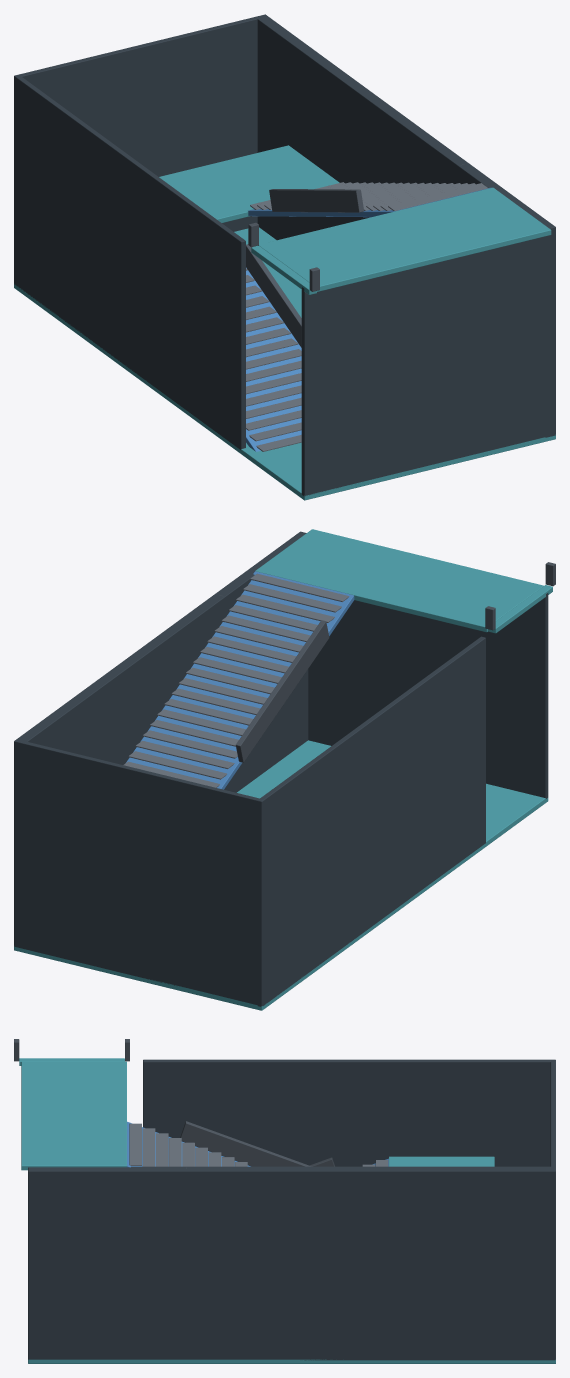
The model's file is env_tower_stairwell_generic_12m_top3d_v001.glb.
The picture shows the model from 3 angles, top to bottom: view 1: azimuth 30°, elevation 25°; view 2: azimuth 150°, elevation 25°; view 3: azimuth 270°, elevation 25°; orthographic projection. The views are drawn at different scales.
Visible parts, largest first — view 1: Stair_Generic_Rotatable_EnclosureWall_Inner, Stair_Generic_Rotatable_EnclosureWall_DoorSide, Stair_Generic_Rotatable_EnclosureWall_Far, Stair_Generic_Rotatable_EnclosureWall_Outer, Stair_Generic_Rotatable_UpperDoorLanding_Walkable, Stair_Generic_Rotatable_TurnLanding_Walkable, Stair_Generic_Rotatable_LowerDoorLanding_Walkable, Stair_Generic_Rotatable_LowerFlight_Walkable, Stair_Generic_Rotatable_UpperFlight_Guard_02, Stair_Generic_Rotatable_LowerFlight_Guard_02, Stair_Generic_Rotatable_UpperFlight_Walkable, Stair_Generic_Rotatable_CoreConnector_Walkable (+1 smaller); view 2: Stair_Generic_Rotatable_EnclosureWall_Far, Stair_Generic_Rotatable_EnclosureWall_Inner, Stair_Generic_Rotatable_EnclosureWall_DoorSide, Stair_Generic_Rotatable_EnclosureWall_Outer, Stair_Generic_Rotatable_UpperDoorLanding_Walkable, Stair_Generic_Rotatable_UpperFlight_Walkable, Stair_Generic_Rotatable_LowerDoorLanding_Walkable, Stair_Generic_Rotatable_UpperFlight_Guard_02, Stair_Generic_Rotatable_ROOT_UpperFlight_Tread_01, Stair_Generic_Rotatable_ROOT_UpperFlight_Tread_02, Stair_Generic_Rotatable_ROOT_UpperFlight_Tread_17, Stair_Generic_Rotatable_ROOT_UpperFlight_Tread_18 (+15 smaller); view 3: Stair_Generic_Rotatable_EnclosureWall_Outer, Stair_Generic_Rotatable_EnclosureWall_Inner, Stair_Generic_Rotatable_UpperDoorLanding_Walkable, Stair_Generic_Rotatable_LowerDoorLanding_Walkable, Stair_Generic_Rotatable_UpperFlight_Guard_02, Stair_Generic_Rotatable_TurnLanding_Walkable, Stair_Generic_Rotatable_EnclosureWall_DoorSide, Stair_Generic_Rotatable_EnclosureWall_Far, Stair_Generic_Rotatable_ROOT_UpperFlight_Tread_01, Stair_Generic_Rotatable_ROOT_UpperFlight_Tread_02, Stair_Generic_Rotatable_ROOT_UpperFlight_Tread_03, Stair_Generic_Rotatable_CoreConnector_Walkable.
Boxes of the visible parts, x1=… form: Stair_Generic_Rotatable_EnclosureWall_Inner: x1=14, y1=75, x2=245, y2=449; Stair_Generic_Rotatable_EnclosureWall_DoorSide: x1=301, y1=225, x2=555, y2=496; Stair_Generic_Rotatable_EnclosureWall_Far: x1=15, y1=14, x2=266, y2=231; Stair_Generic_Rotatable_EnclosureWall_Outer: x1=257, y1=14, x2=555, y2=437; Stair_Generic_Rotatable_UpperDoorLanding_Walkable: x1=258, y1=187, x2=551, y2=291; Stair_Generic_Rotatable_TurnLanding_Walkable: x1=159, y1=145, x2=339, y2=222; Stair_Generic_Rotatable_LowerDoorLanding_Walkable: x1=14, y1=227, x2=555, y2=500; Stair_Generic_Rotatable_LowerFlight_Walkable: x1=246, y1=267, x2=301, y2=451; Stair_Generic_Rotatable_UpperFlight_Guard_02: x1=269, y1=189, x2=363, y2=212; Stair_Generic_Rotatable_LowerFlight_Guard_02: x1=246, y1=244, x2=301, y2=347; Stair_Generic_Rotatable_UpperFlight_Walkable: x1=248, y1=187, x2=491, y2=217; Stair_Generic_Rotatable_CoreConnector_Walkable: x1=251, y1=246, x2=316, y2=294; Stair_Generic_Rotatable_EnclosureWall_Far: x1=14, y1=740, x2=262, y2=1004; Stair_Generic_Rotatable_EnclosureWall_Inner: x1=257, y1=636, x2=485, y2=1006; Stair_Generic_Rotatable_EnclosureWall_DoorSide: x1=298, y1=531, x2=548, y2=798; Stair_Generic_Rotatable_EnclosureWall_Outer: x1=14, y1=531, x2=308, y2=792; Stair_Generic_Rotatable_UpperDoorLanding_Walkable: x1=255, y1=529, x2=543, y2=632; Stair_Generic_Rotatable_UpperFlight_Walkable: x1=126, y1=571, x2=354, y2=789; Stair_Generic_Rotatable_LowerDoorLanding_Walkable: x1=14, y1=740, x2=548, y2=1010; Stair_Generic_Rotatable_UpperFlight_Guard_02: x1=235, y1=620, x2=329, y2=762; Stair_Generic_Rotatable_ROOT_UpperFlight_Tread_01: x1=250, y1=573, x2=349, y2=601; Stair_Generic_Rotatable_ROOT_UpperFlight_Tread_02: x1=243, y1=584, x2=341, y2=612; Stair_Generic_Rotatable_ROOT_UpperFlight_Tread_17: x1=135, y1=740, x2=234, y2=768; Stair_Generic_Rotatable_ROOT_UpperFlight_Tread_18: x1=128, y1=751, x2=226, y2=779; Stair_Generic_Rotatable_EnclosureWall_Outer: x1=28, y1=1166, x2=555, y2=1360; Stair_Generic_Rotatable_EnclosureWall_Inner: x1=143, y1=1059, x2=555, y2=1166; Stair_Generic_Rotatable_UpperDoorLanding_Walkable: x1=21, y1=1061, x2=126, y2=1170; Stair_Generic_Rotatable_LowerDoorLanding_Walkable: x1=28, y1=1359, x2=555, y2=1363; Stair_Generic_Rotatable_UpperFlight_Guard_02: x1=180, y1=1121, x2=311, y2=1166; Stair_Generic_Rotatable_TurnLanding_Walkable: x1=389, y1=1156, x2=494, y2=1166; Stair_Generic_Rotatable_EnclosureWall_DoorSide: x1=28, y1=1167, x2=32, y2=1359; Stair_Generic_Rotatable_EnclosureWall_Far: x1=550, y1=1060, x2=555, y2=1359; Stair_Generic_Rotatable_ROOT_UpperFlight_Tread_01: x1=129, y1=1123, x2=141, y2=1165; Stair_Generic_Rotatable_ROOT_UpperFlight_Tread_02: x1=142, y1=1128, x2=155, y2=1166; Stair_Generic_Rotatable_ROOT_UpperFlight_Tread_03: x1=156, y1=1133, x2=168, y2=1166; Stair_Generic_Rotatable_CoreConnector_Walkable: x1=19, y1=1058, x2=124, y2=1065.
Bounding box in the file's own units: 15 × 13.46 × 30.8.
